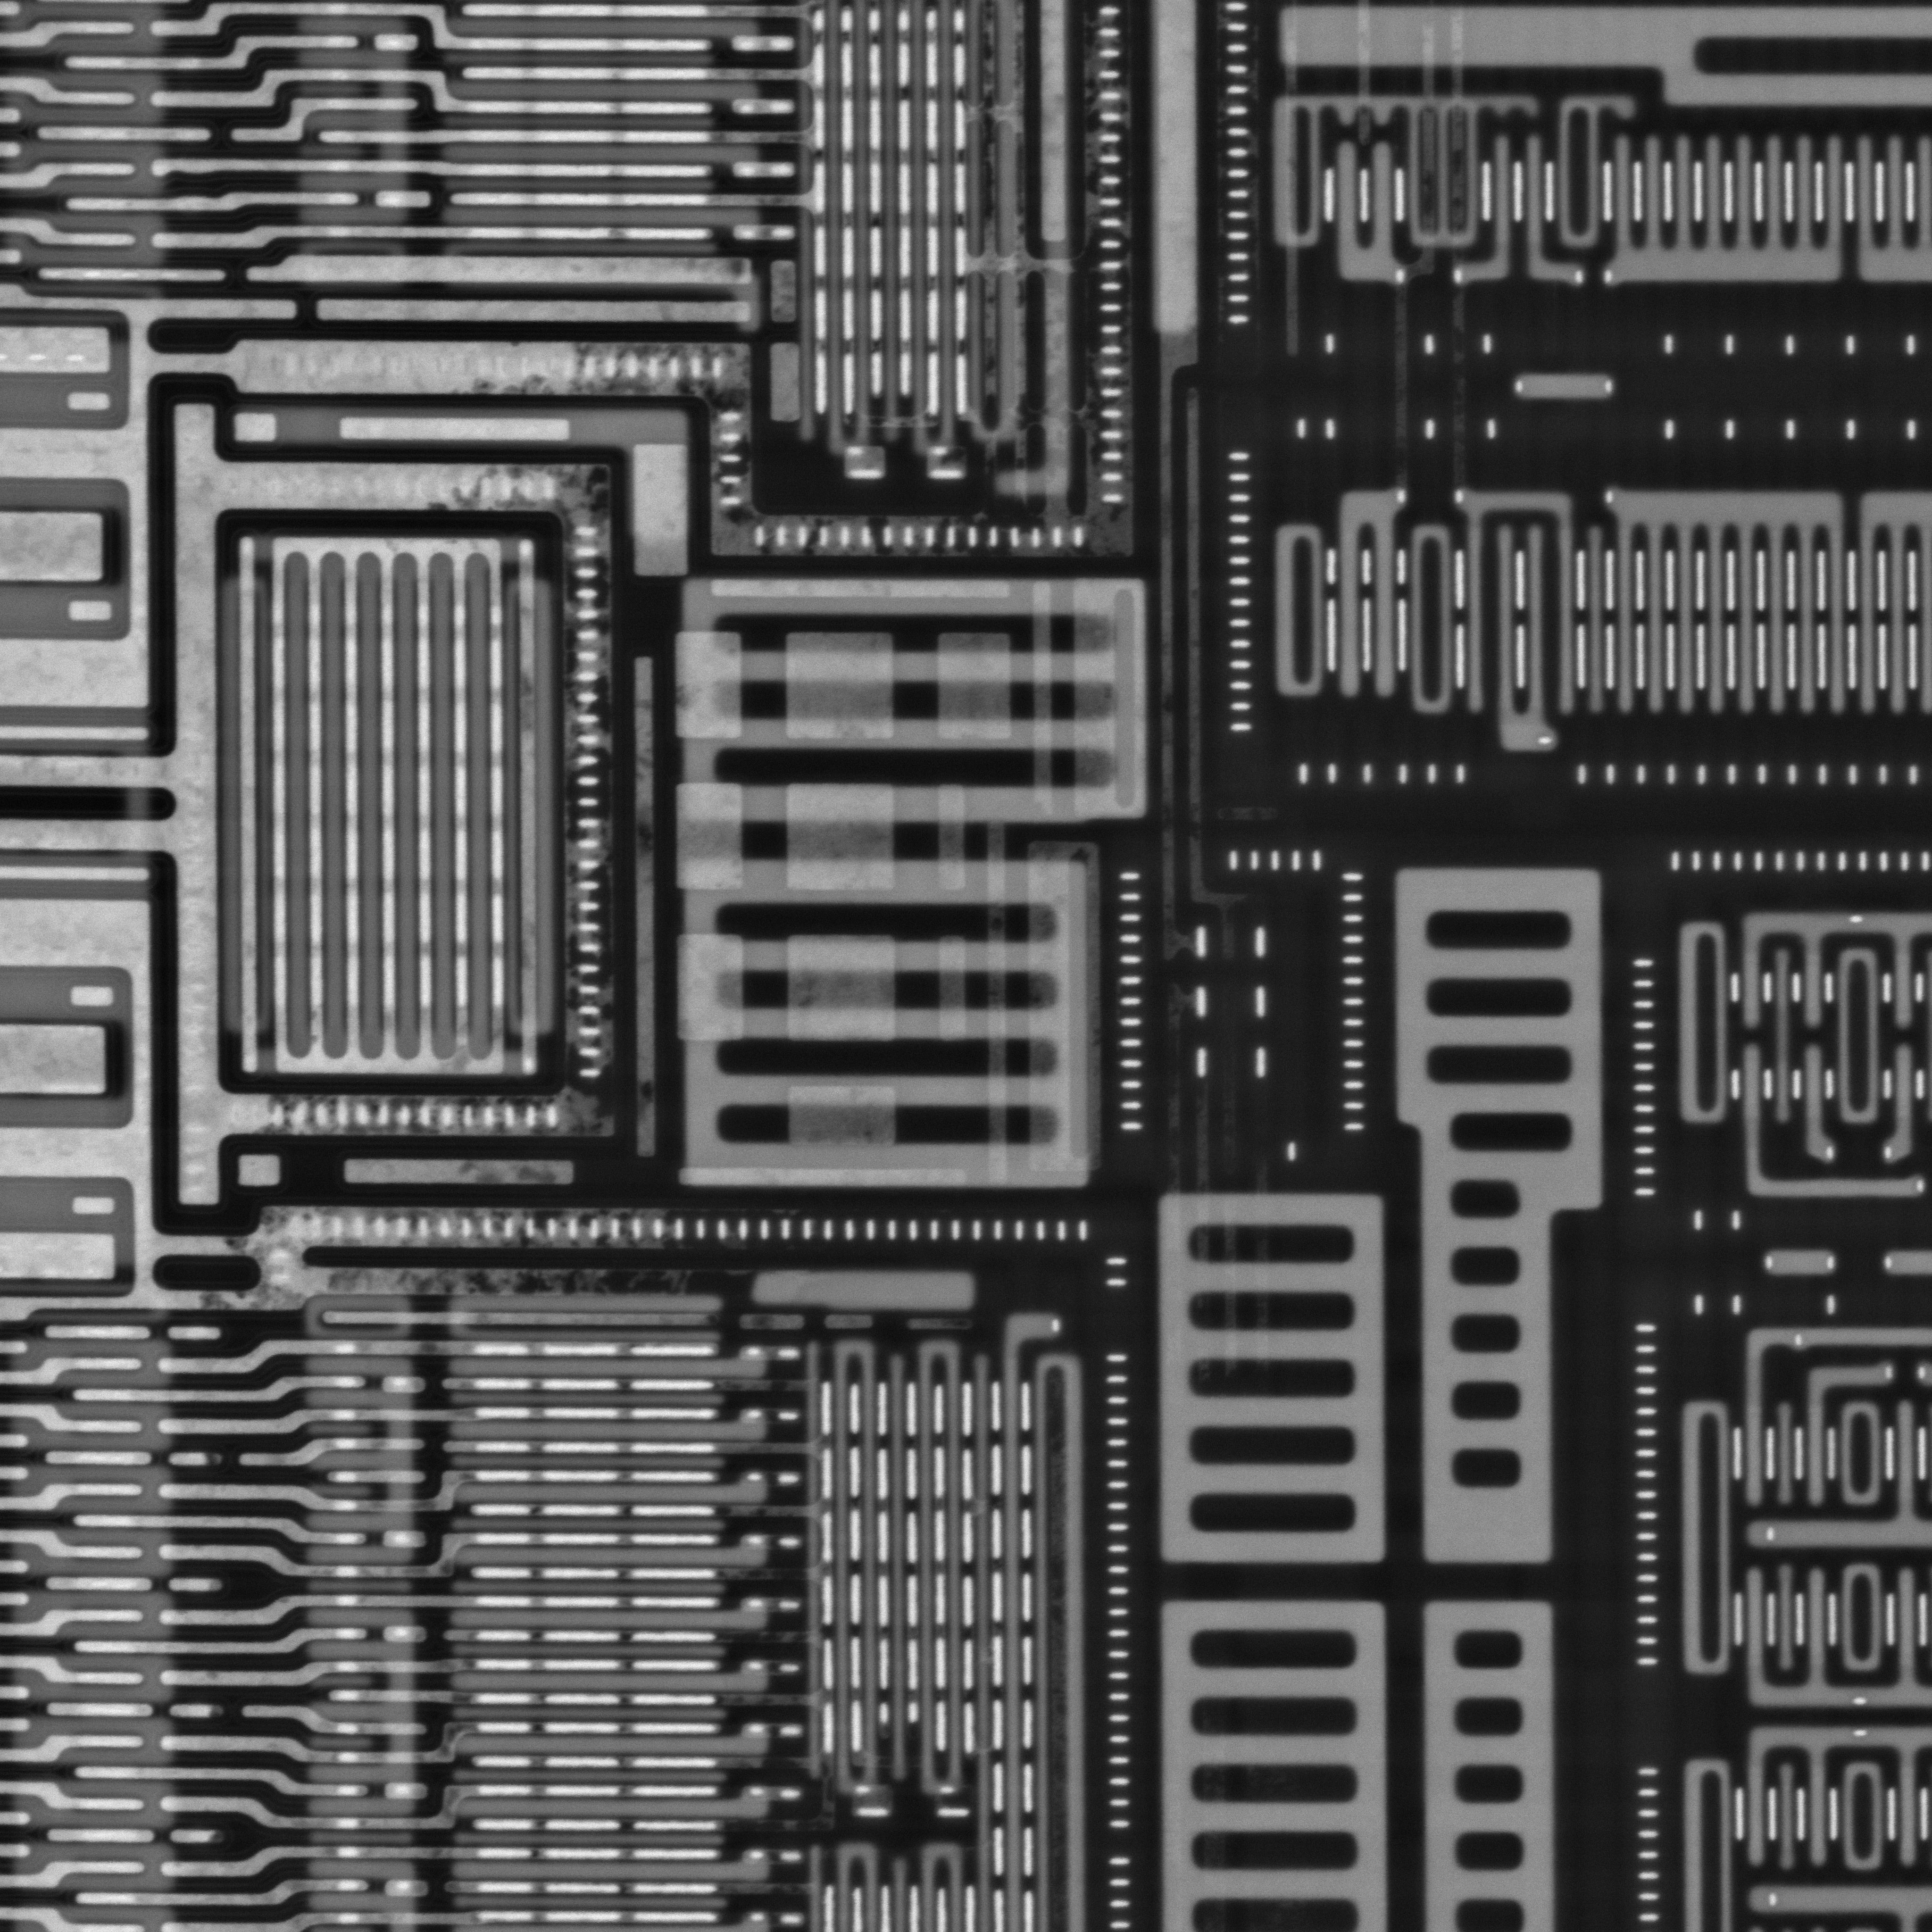doubleGate: (1601, 488, 1859, 729), (1325, 481, 1408, 709), (1325, 140, 1412, 287)
insideDummy: (1389, 858, 1615, 1585), (1164, 1185, 1387, 1568)
multiGate: (1601, 134, 1856, 281)
publicGate: (1454, 485, 1587, 755)
singleGate: (1723, 1039, 1928, 1203), (1796, 1355, 1895, 1511), (1514, 133, 1585, 283), (1879, 1039, 1928, 1159), (1796, 1044, 1845, 1162)
